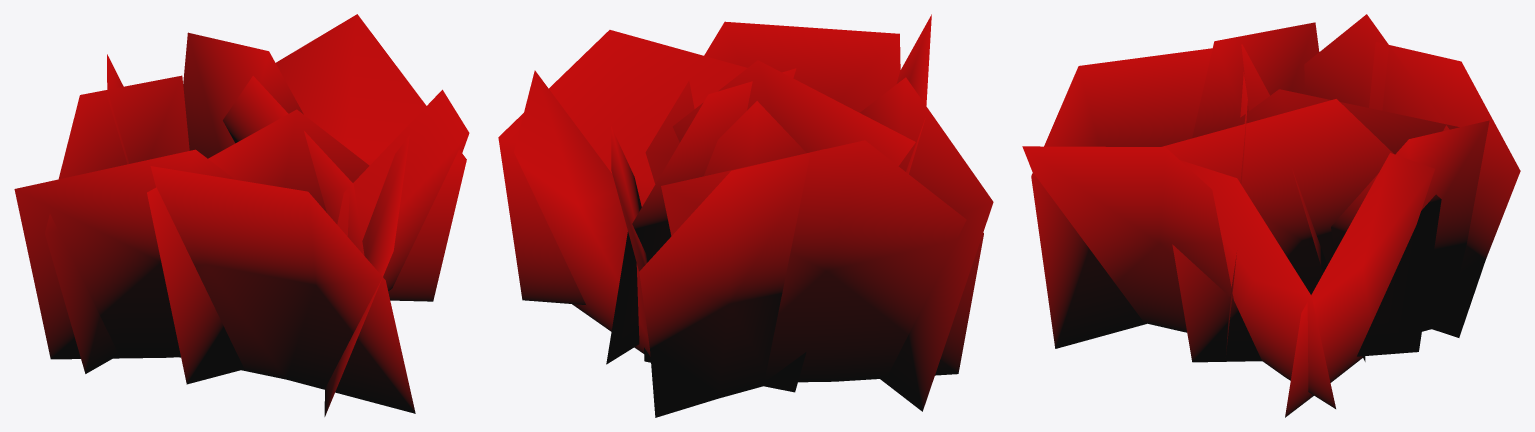
The model's file is SavannaGrass2.fbx.
3 renders of one model, left to right at view 1: azimuth 30°, elevation 25°; view 2: azimuth 150°, elevation 25°; view 3: azimuth 270°, elevation 25°, orthographic. The views are drawn at different scales.
Parts seen in each view (by area): view 1: SavannaGrass2; view 2: SavannaGrass2; view 3: SavannaGrass2.
Part boxes in pixels (x1,y1,x2,y2): SavannaGrass2: (14, 14, 469, 416); SavannaGrass2: (498, 14, 993, 417); SavannaGrass2: (1022, 14, 1520, 417).
Bounding box in the file's own units: 84.8 × 45.85 × 80.99.
